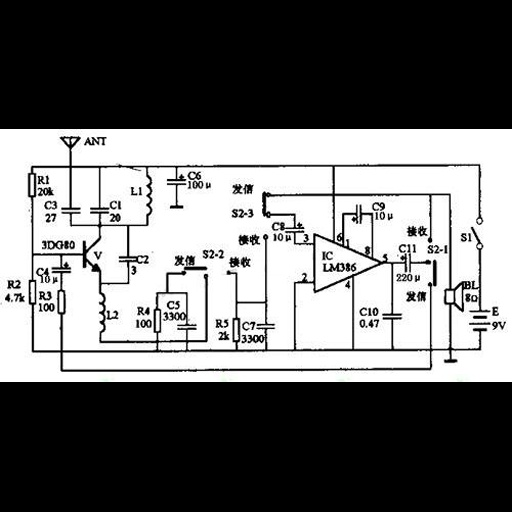amplifier: (310, 231, 383, 294)
battery: (468, 307, 492, 335)
capacitor: (381, 309, 409, 323), (59, 204, 82, 217), (86, 204, 109, 216), (115, 253, 137, 264), (175, 322, 199, 332), (257, 320, 276, 332)
firstpolarcapacitor: (165, 171, 187, 190), (396, 253, 418, 272), (349, 200, 364, 227), (49, 261, 77, 275), (285, 220, 304, 235)
firstresistance: (54, 288, 72, 317), (151, 305, 164, 336), (25, 170, 38, 201), (25, 278, 38, 307), (230, 316, 241, 343)
loudspeaker: (442, 281, 465, 314)
